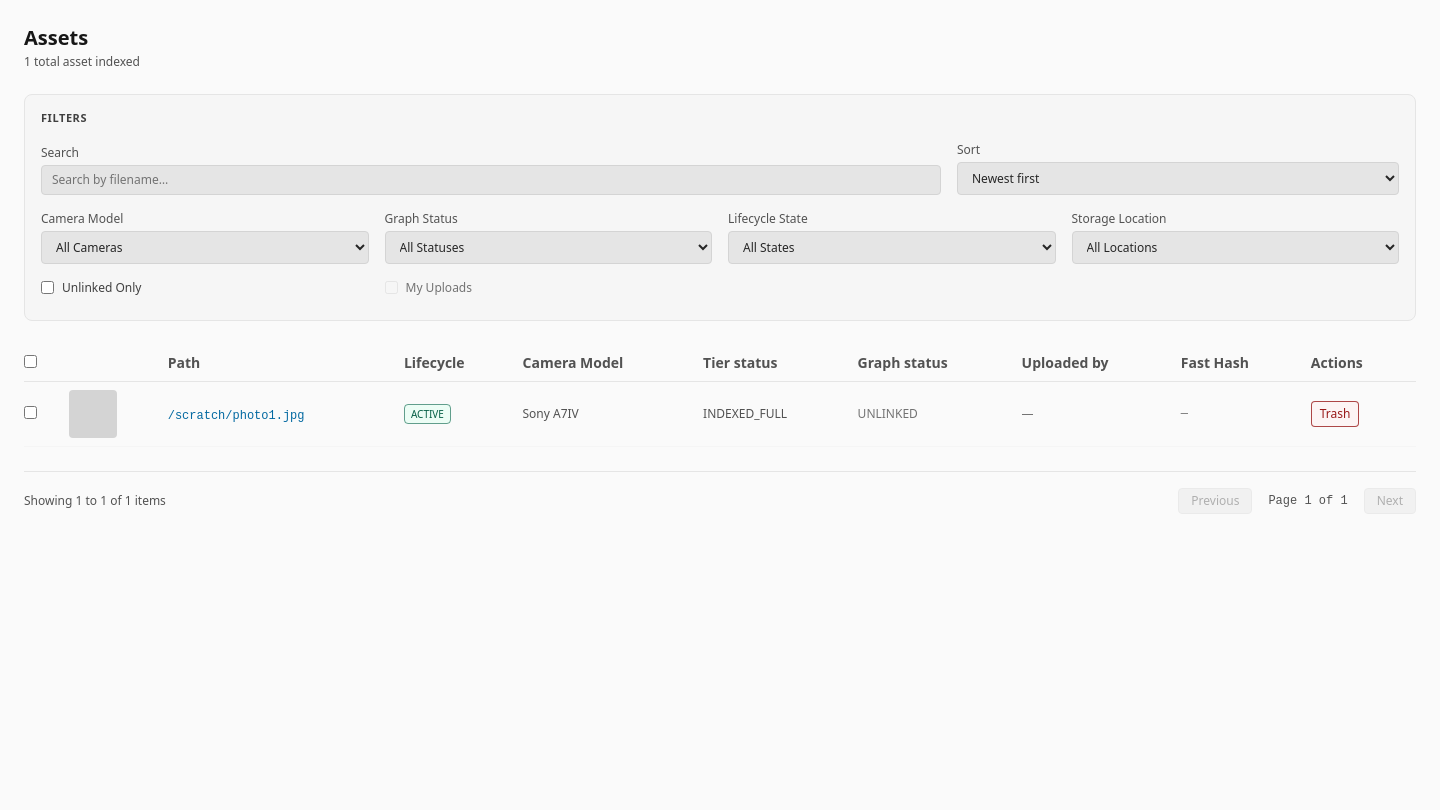
Test: AssetListPage per-row trash › does not mutate until confirmed, and Cancel dismisses the dialog
Expected: the link "/scratch/photo1.jpg" is shown, [168,409,304,423]
Click the button "Trash".
click(1335, 414)  # box [1311,401,1360,427]
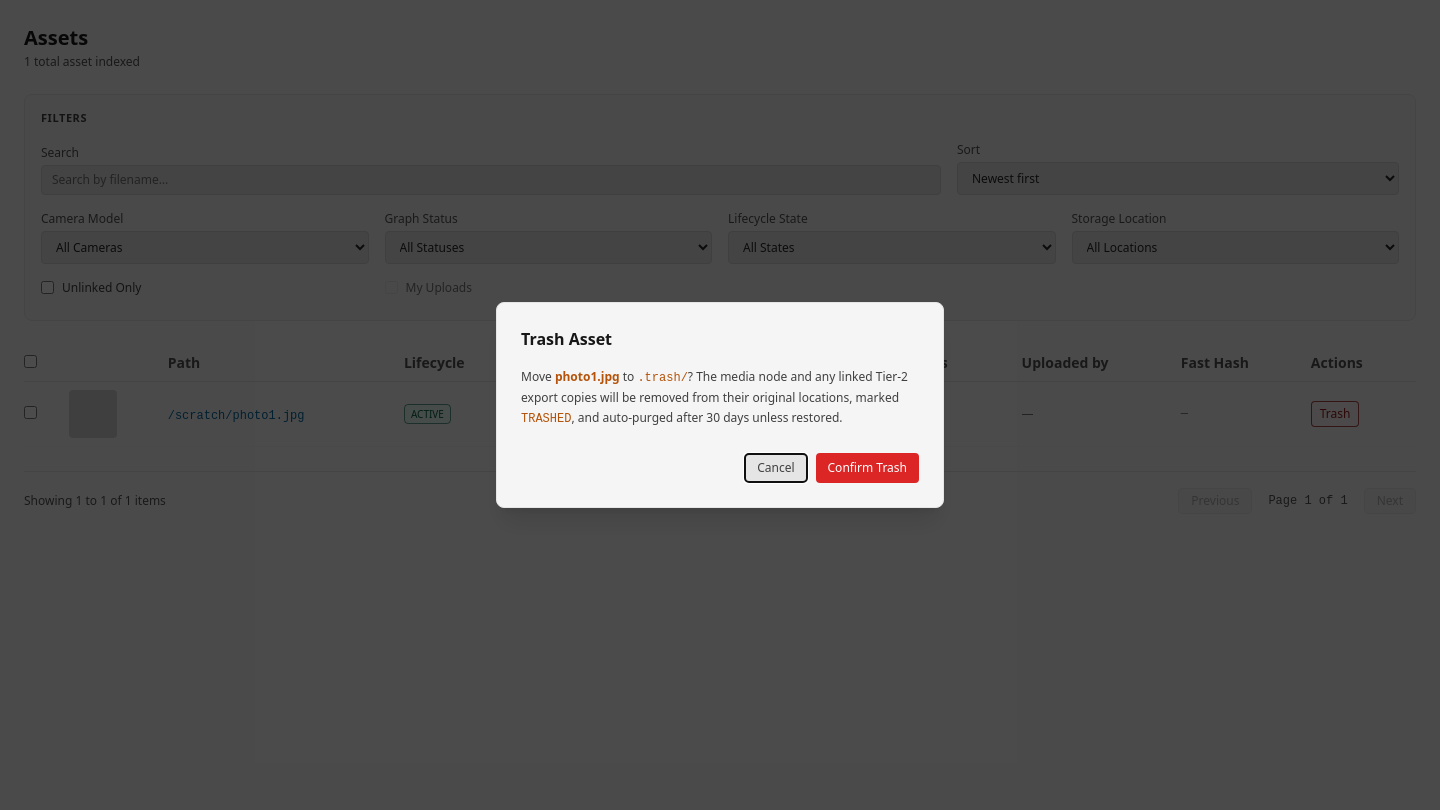
Expected: the dialog is shown, [496,302,944,508]
Click the button "Cancel".
click(776, 468)  # box [744,453,808,483]
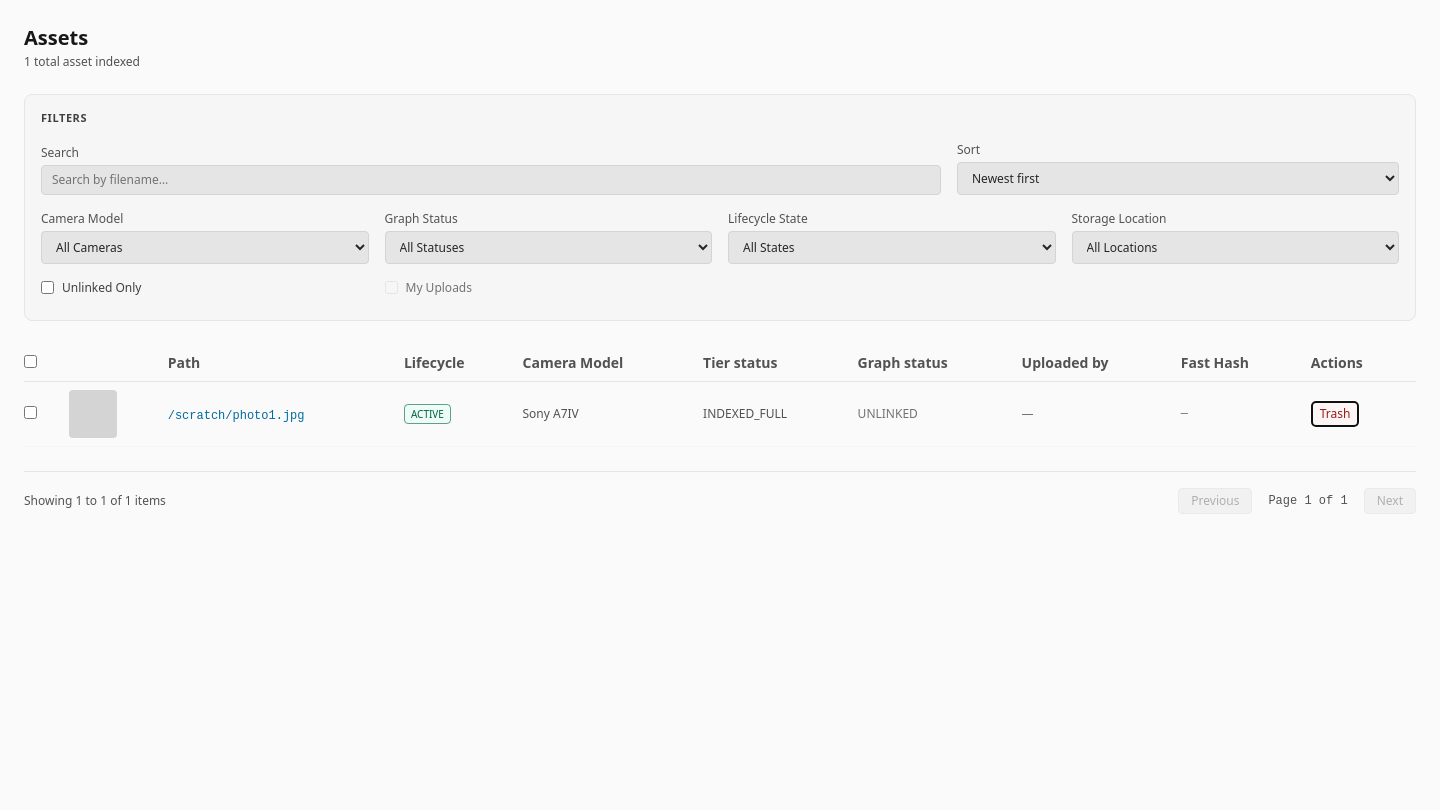
Expected: the dialog is gone
